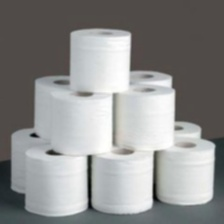tissue: (19, 142, 92, 220), (87, 140, 160, 218), (63, 21, 136, 99), (46, 84, 118, 159), (149, 134, 220, 208), (110, 79, 179, 155), (5, 123, 69, 198), (29, 69, 86, 142), (124, 65, 178, 94), (153, 116, 206, 144)
